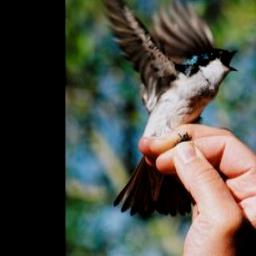Swallow: (87, 0, 241, 218)
